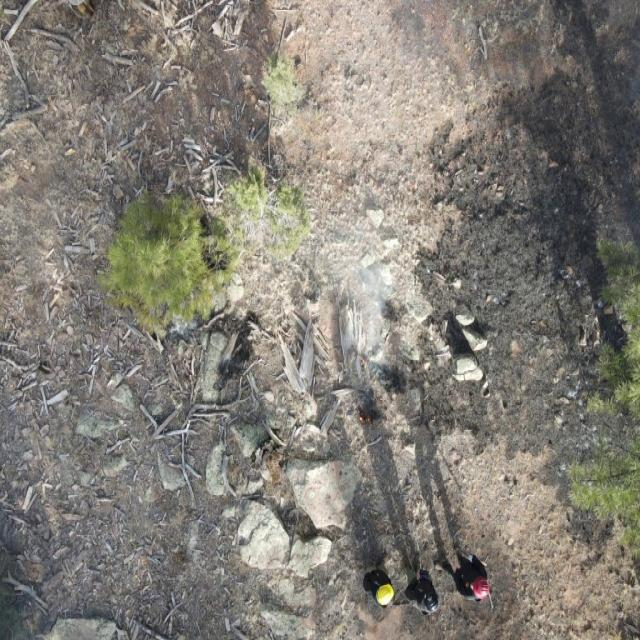fire: (353, 410, 374, 430), (355, 350, 370, 368)
smoke: (267, 218, 399, 400)
